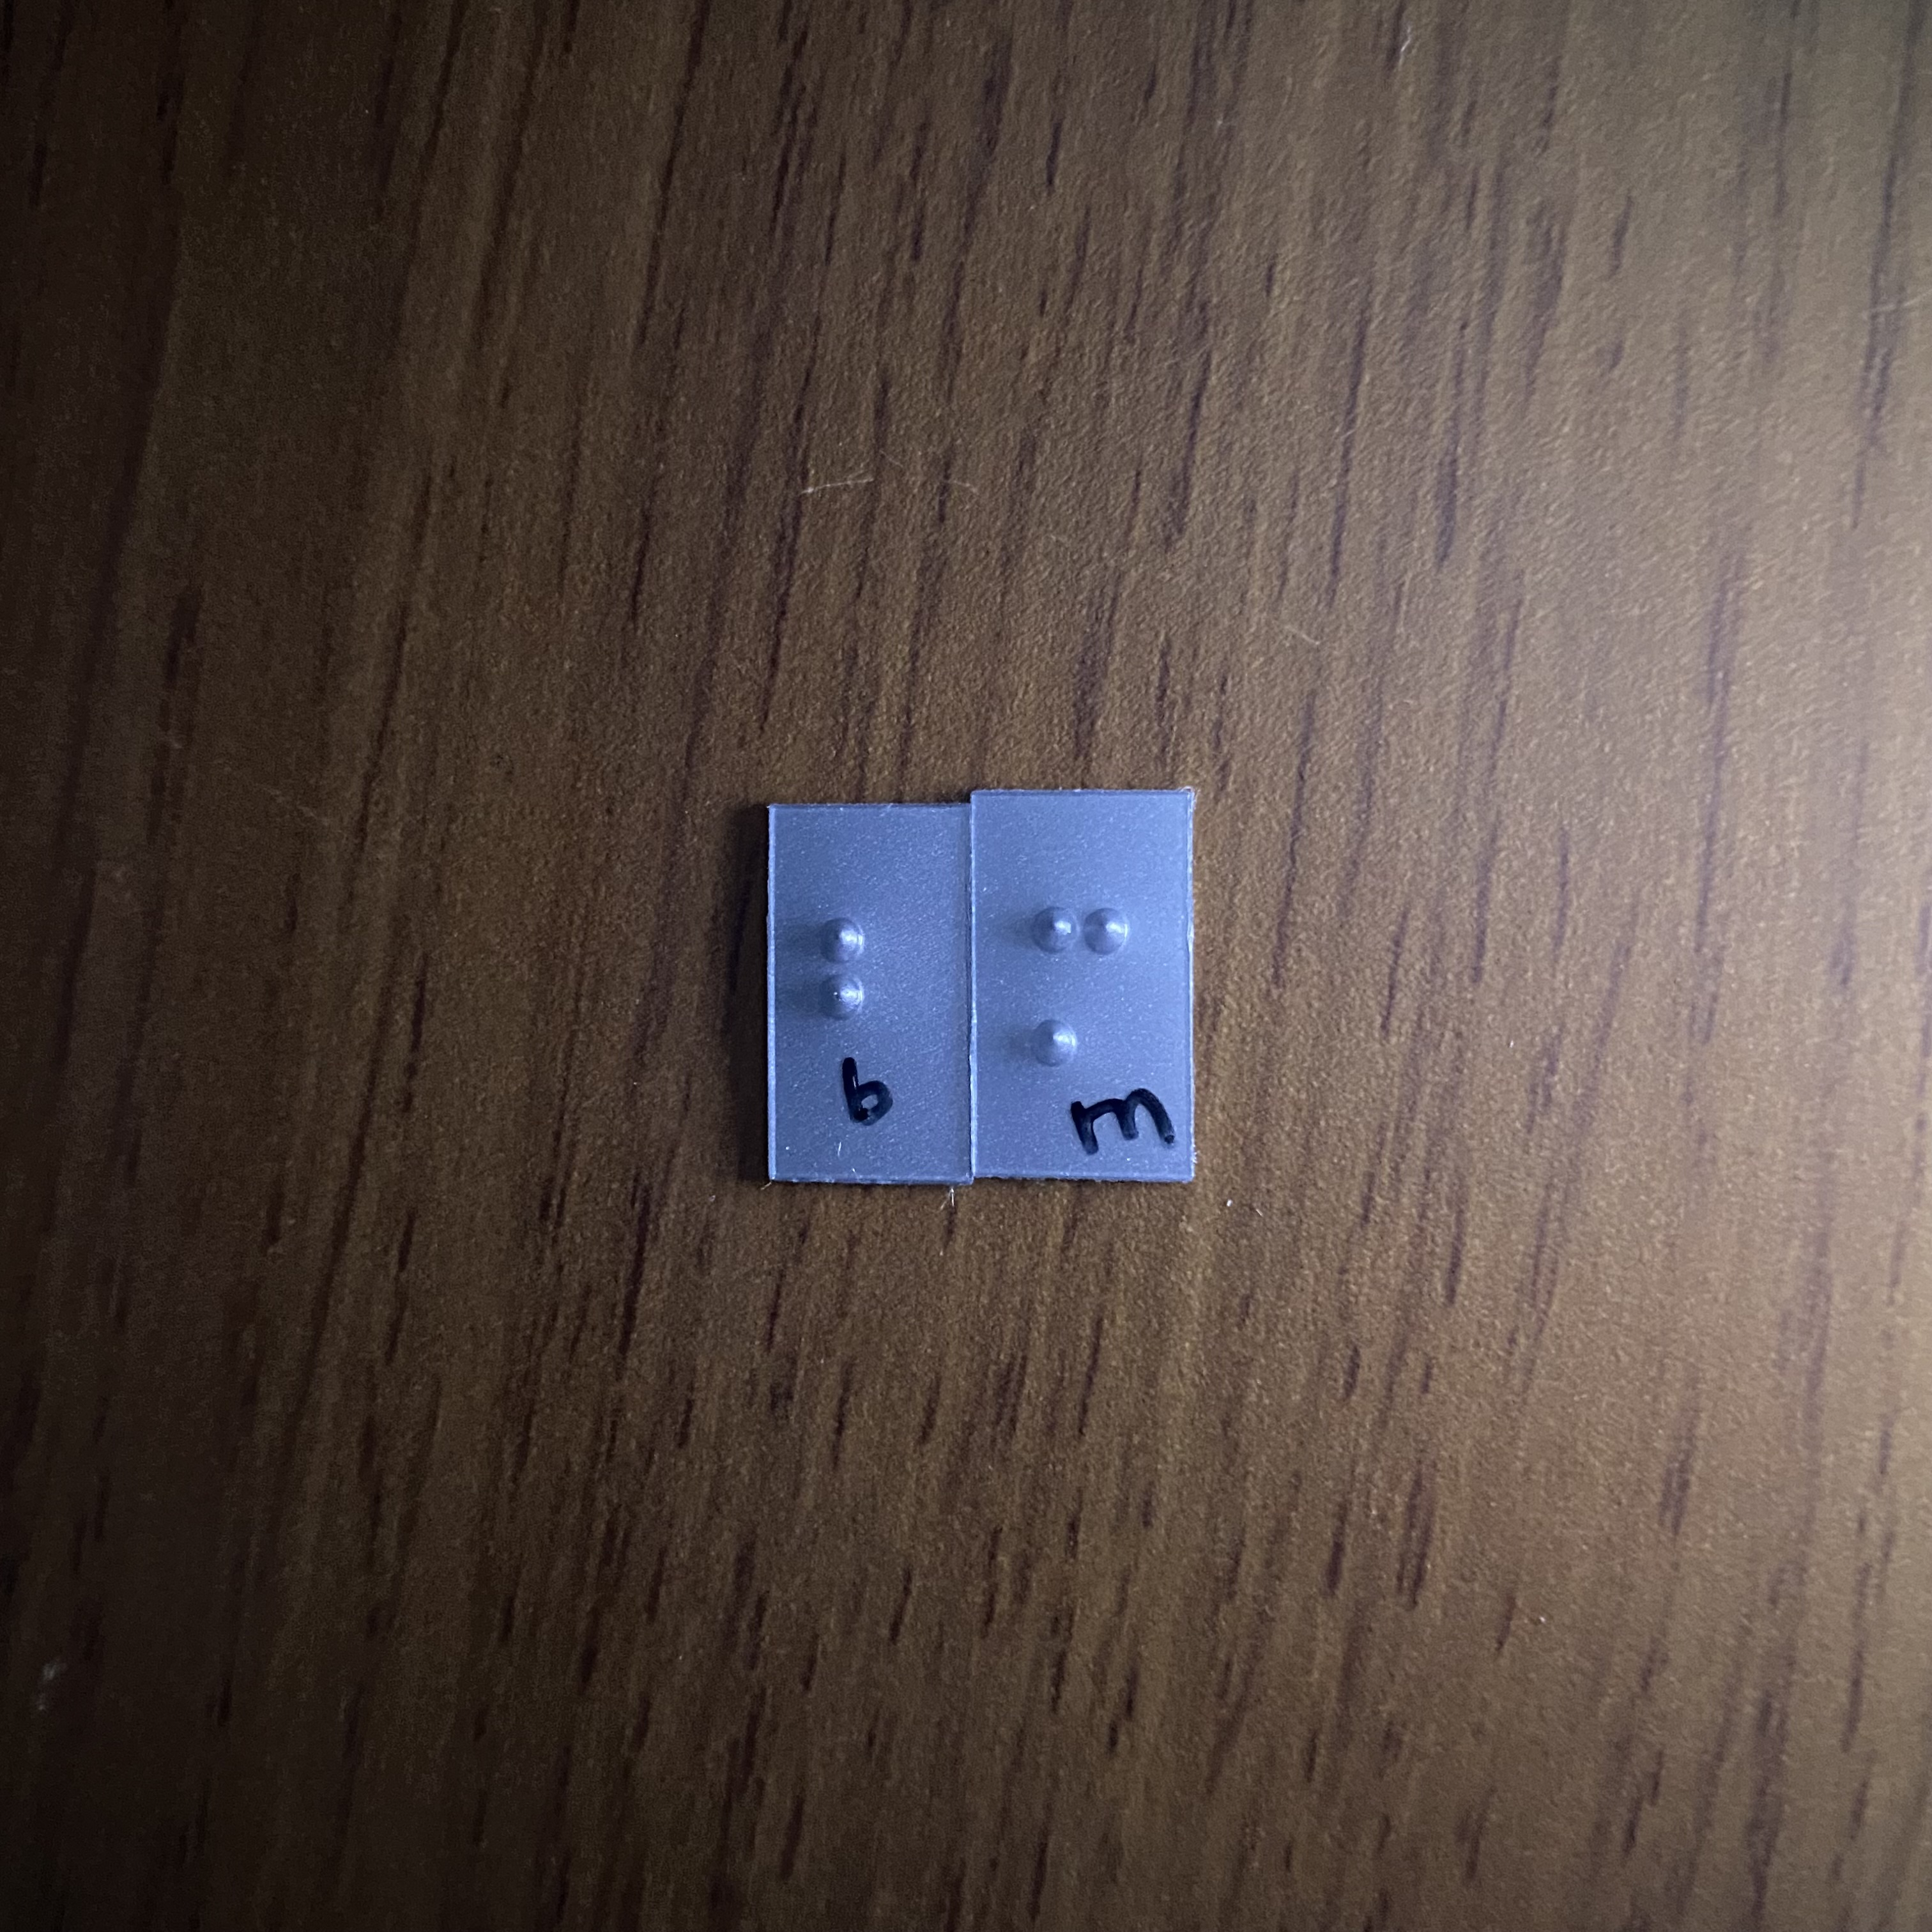b: (796, 901, 932, 1101)
m: (1009, 896, 1153, 1091)
